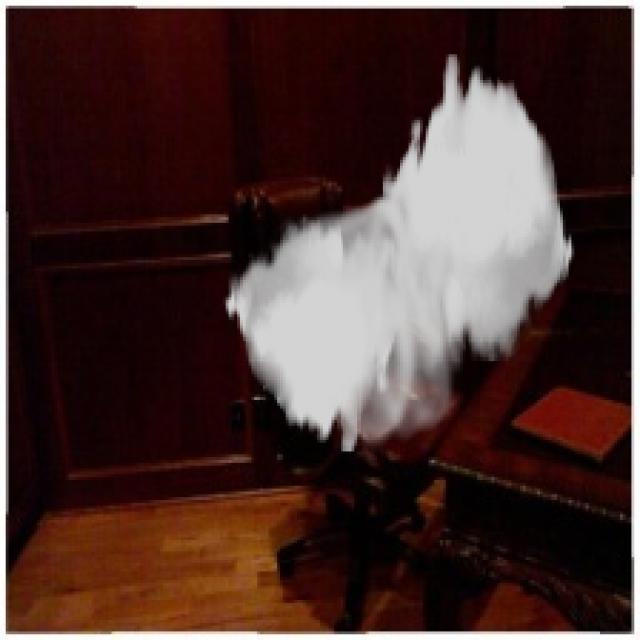Smoke: (222, 54, 574, 454)
